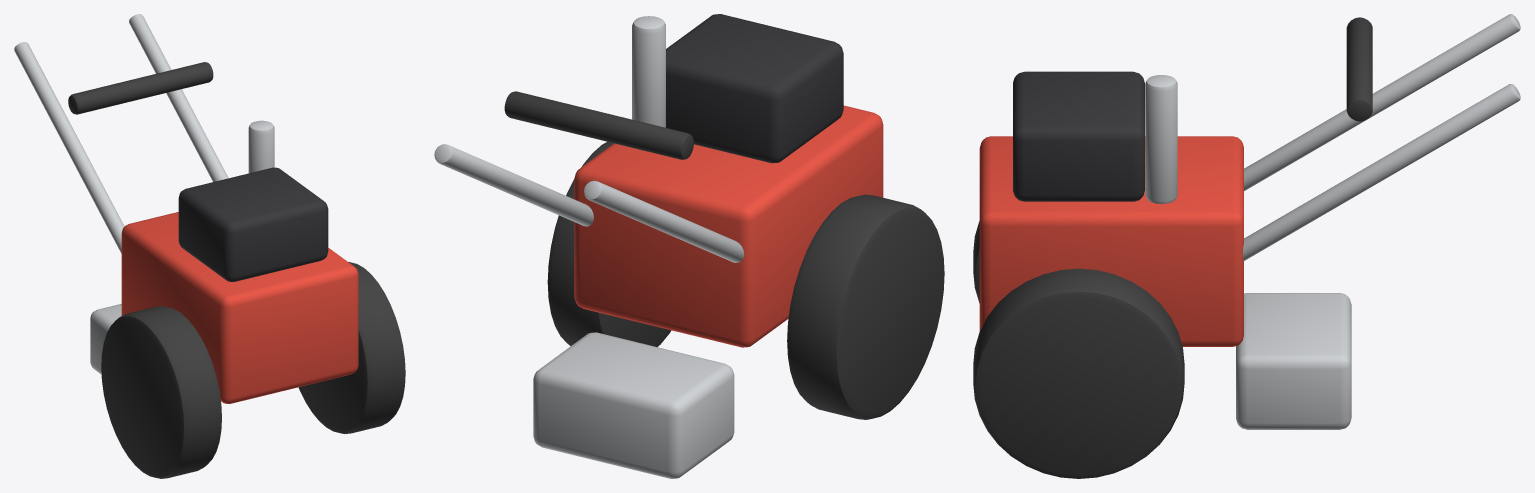
Rendered from kounki.glb.
3 renders of one model, left to right at view 1: azimuth 30°, elevation 25°; view 2: azimuth 150°, elevation 25°; view 3: azimuth 270°, elevation 25°, orthographic. The views are drawn at different scales.
Visible parts, largest first — view 1: kounki; view 2: kounki; view 3: kounki.
Boxes of the visible parts, x1,y1,x2,y2 form: kounki: (14, 14, 405, 478); kounki: (434, 14, 944, 478); kounki: (973, 14, 1520, 478).
Size of the model in its own units: 0.98 by 1.21 by 1.66.
